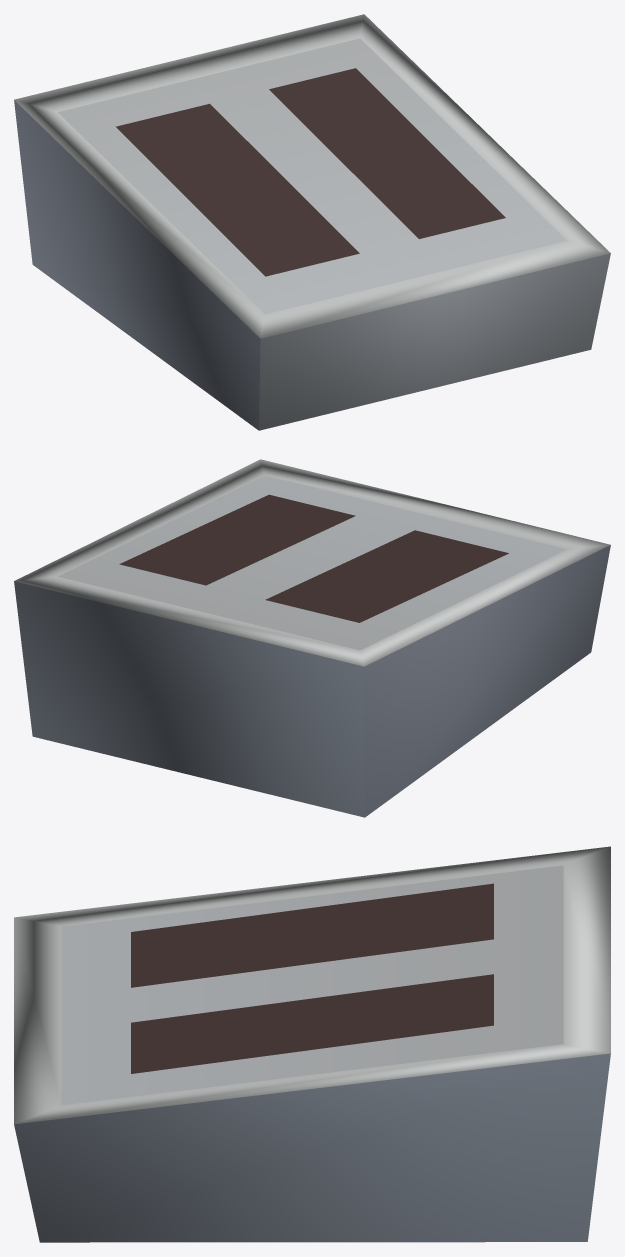
File: PartySubSwitchBase.glb
3 views of the same model, one above another, from view 1: azimuth 30°, elevation 25°; view 2: azimuth 150°, elevation 25°; view 3: azimuth 270°, elevation 25° (orthographic). The views are drawn at different scales.
Visible parts, largest first — view 1: PartySubSwitchBase; view 2: PartySubSwitchBase; view 3: PartySubSwitchBase.
Boxes of the visible parts, bbox=[...] form: PartySubSwitchBase: bbox=[14, 14, 610, 430]; PartySubSwitchBase: bbox=[14, 459, 610, 817]; PartySubSwitchBase: bbox=[14, 846, 610, 1242].
Size of the model in its own units: 0.5396 by 0.2364 by 0.6577.
